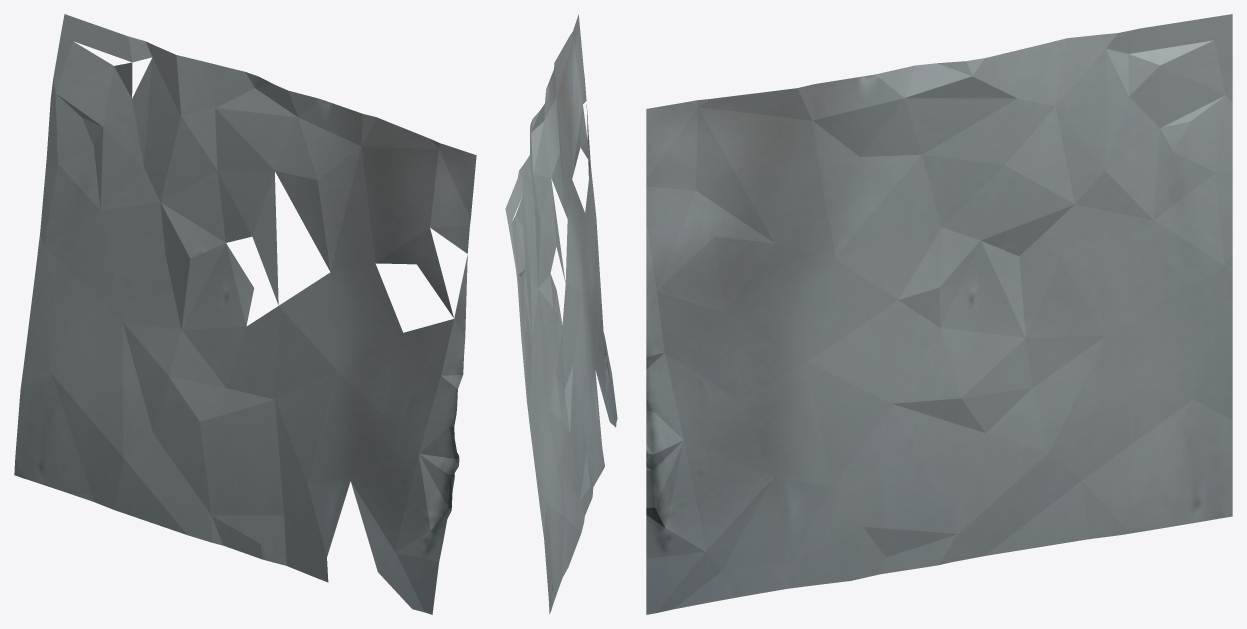
3 renders of one model, left to right at view 1: azimuth 30°, elevation 25°; view 2: azimuth 150°, elevation 25°; view 3: azimuth 270°, elevation 25°, orthographic. The views are drawn at different scales.
Size of the model in its own units: 0.8374 by 1.67 by 1.67.
Materials: 3 (3 with a texture image).
